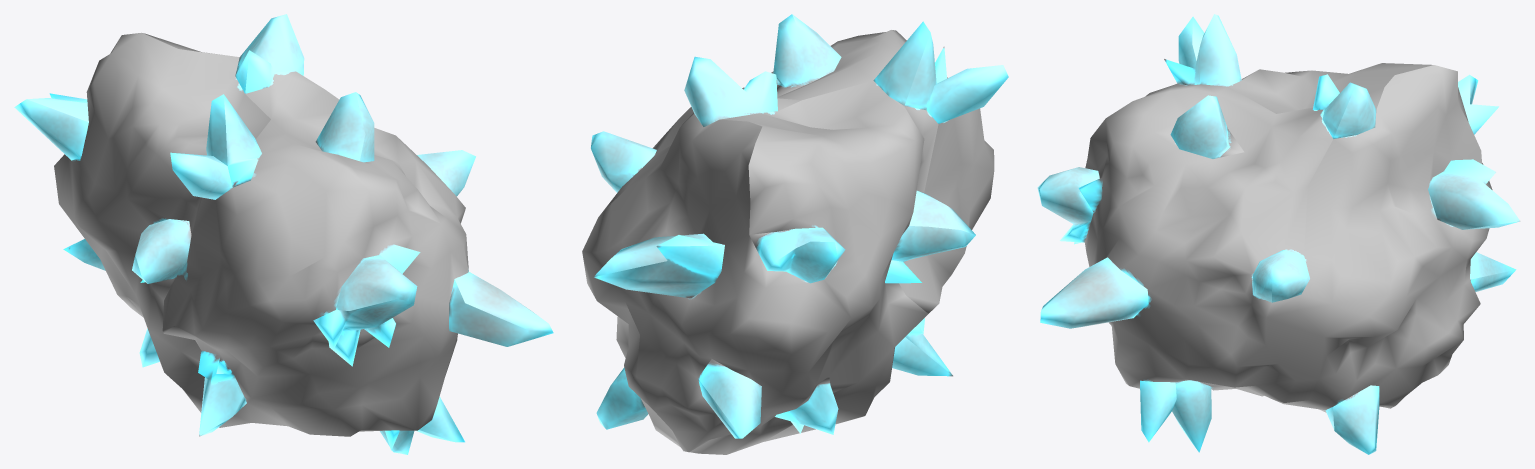
The model's file is Asteroid_1 1.FBX.
The picture shows the model from 3 angles, left to right: view 1: azimuth 30°, elevation 25°; view 2: azimuth 150°, elevation 25°; view 3: azimuth 270°, elevation 25°; orthographic projection. The views are drawn at different scales.
Visible parts, largest first — view 1: Asteroid_1_LOD0; view 2: Asteroid_1_LOD0; view 3: Asteroid_1_LOD0.
Boxes of the visible parts, left/top/right/bottom form: Asteroid_1_LOD0: left=14, top=14, right=553, bottom=454; Asteroid_1_LOD0: left=582, top=14, right=1008, bottom=454; Asteroid_1_LOD0: left=1037, top=14, right=1520, bottom=454.
Size of what is drawn, in the model's own units: 82.8 by 109 by 89.68.
